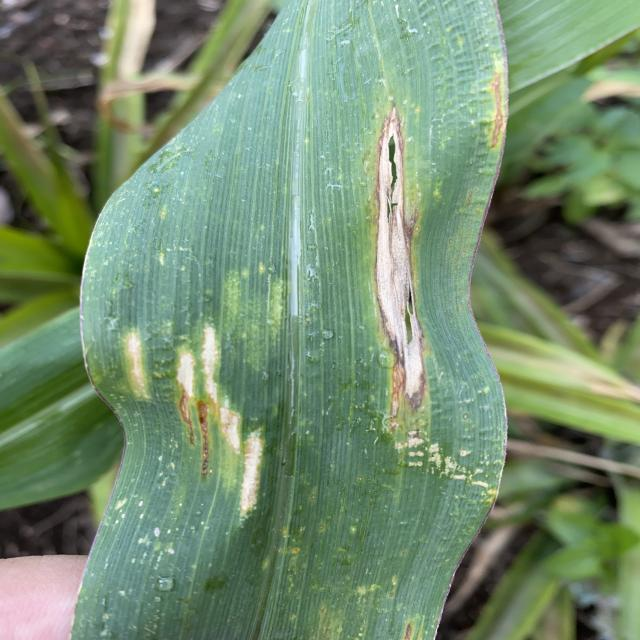Corn_Leaf_Blight: (110, 1, 506, 640)
